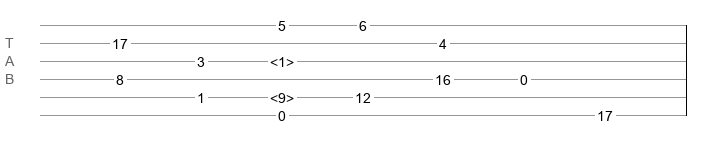0: (278, 108, 286, 118), (520, 72, 528, 82)
1: (197, 90, 205, 100)
12: (355, 90, 371, 100)
16: (435, 72, 451, 82)
17: (112, 36, 128, 46), (597, 108, 613, 118)
3: (197, 54, 205, 64)
4: (439, 36, 447, 46)
5: (278, 18, 286, 28)
6: (359, 18, 367, 28)
8: (116, 72, 124, 82)
harmonic: (270, 54, 294, 64), (270, 90, 294, 100)
